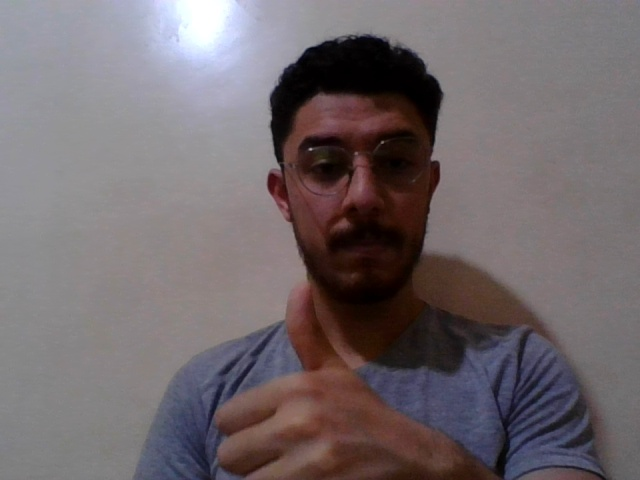Yes: (200, 279, 453, 480)
